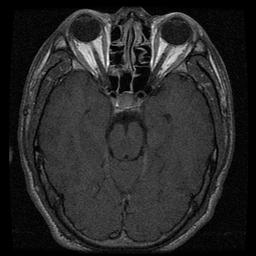Pituirity_tumour: (111, 90, 142, 111)
